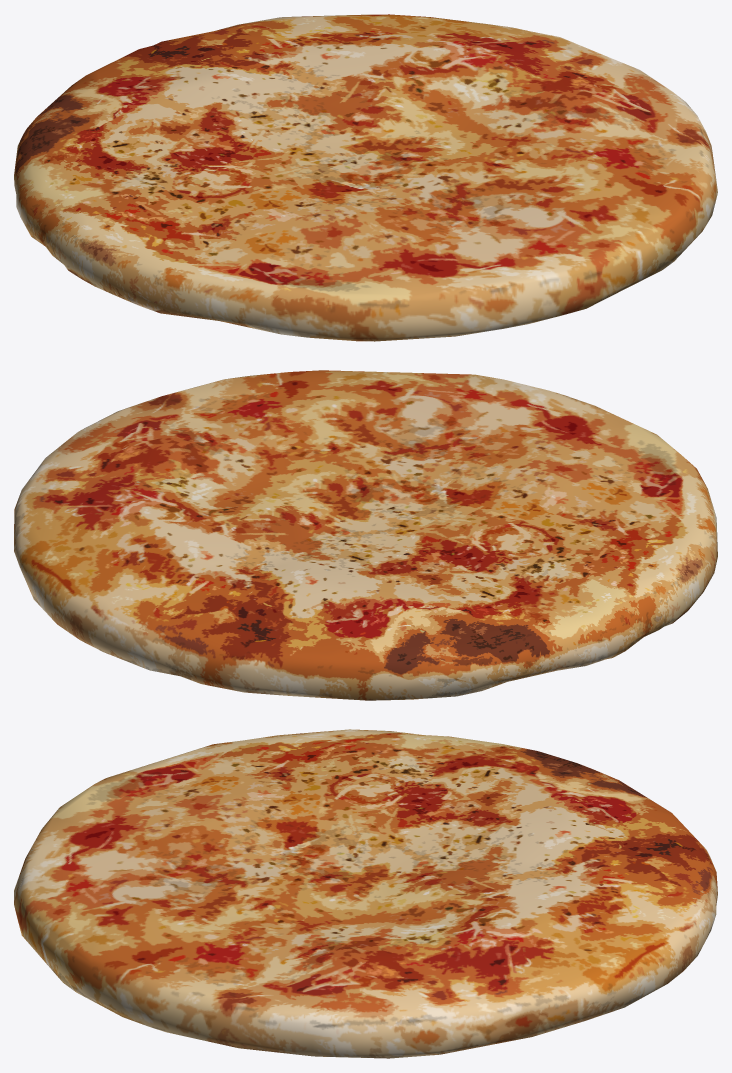
File: s_pizza_01.fbx
3 views of the same model, one above another, from view 1: azimuth 30°, elevation 25°; view 2: azimuth 150°, elevation 25°; view 3: azimuth 270°, elevation 25° (orthographic).
Visible parts, largest first — view 1: s_pizza_01; view 2: s_pizza_01; view 3: s_pizza_01.
Part boxes in pixels (x1=…): s_pizza_01: x1=14, y1=14, x2=717, y2=341; s_pizza_01: x1=14, y1=370, x2=717, y2=700; s_pizza_01: x1=14, y1=729, x2=717, y2=1058.
Bounding box in the file's own units: 84.09 × 7.95 × 84.
